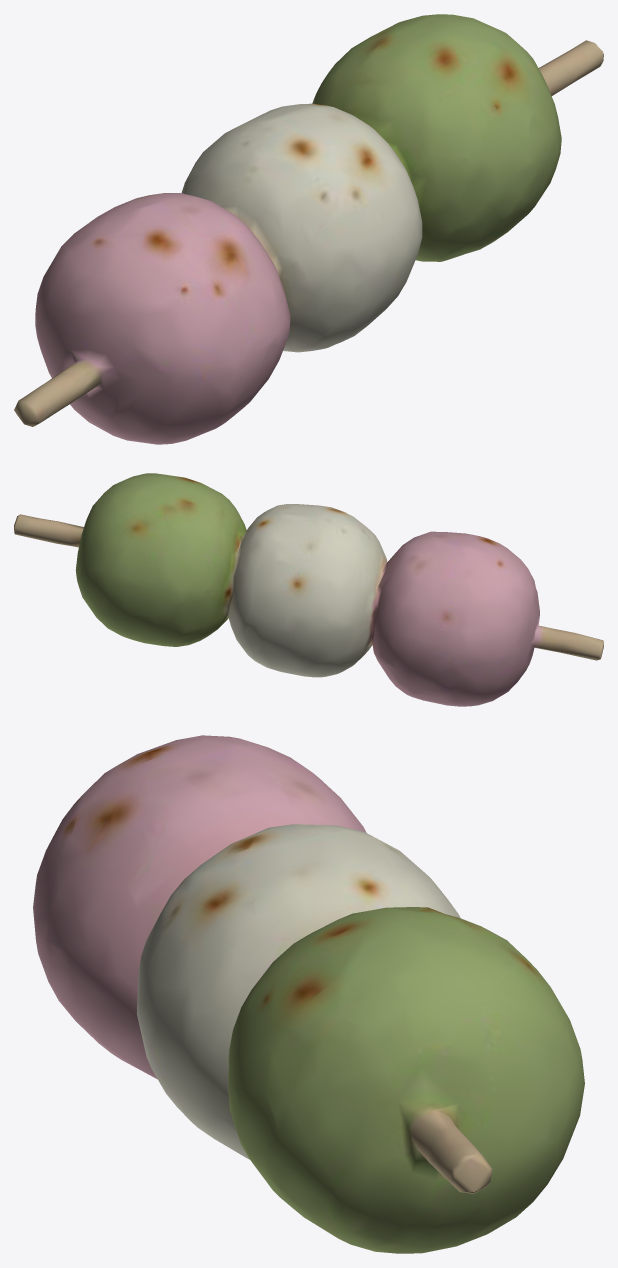
The model's file is JP_사물_s2_dessert_part_skewer_dango.glb.
3 views of the same model, one above another, from view 1: azimuth 30°, elevation 25°; view 2: azimuth 150°, elevation 25°; view 3: azimuth 270°, elevation 25° (orthographic). The views are drawn at different scales.
Visible parts, largest first — view 1: tripo_node_25db2dd3-d378-46e7-aa16-eecc5046a981; view 2: tripo_node_25db2dd3-d378-46e7-aa16-eecc5046a981; view 3: tripo_node_25db2dd3-d378-46e7-aa16-eecc5046a981.
Part boxes in pixels (x1,y1,x2,y2): tripo_node_25db2dd3-d378-46e7-aa16-eecc5046a981: [14, 14, 603, 444]; tripo_node_25db2dd3-d378-46e7-aa16-eecc5046a981: [14, 473, 603, 706]; tripo_node_25db2dd3-d378-46e7-aa16-eecc5046a981: [33, 735, 584, 1253].
Size of the model in its own units: 0.3 by 0.1093 by 0.1429.
1 material, 1 textured.
